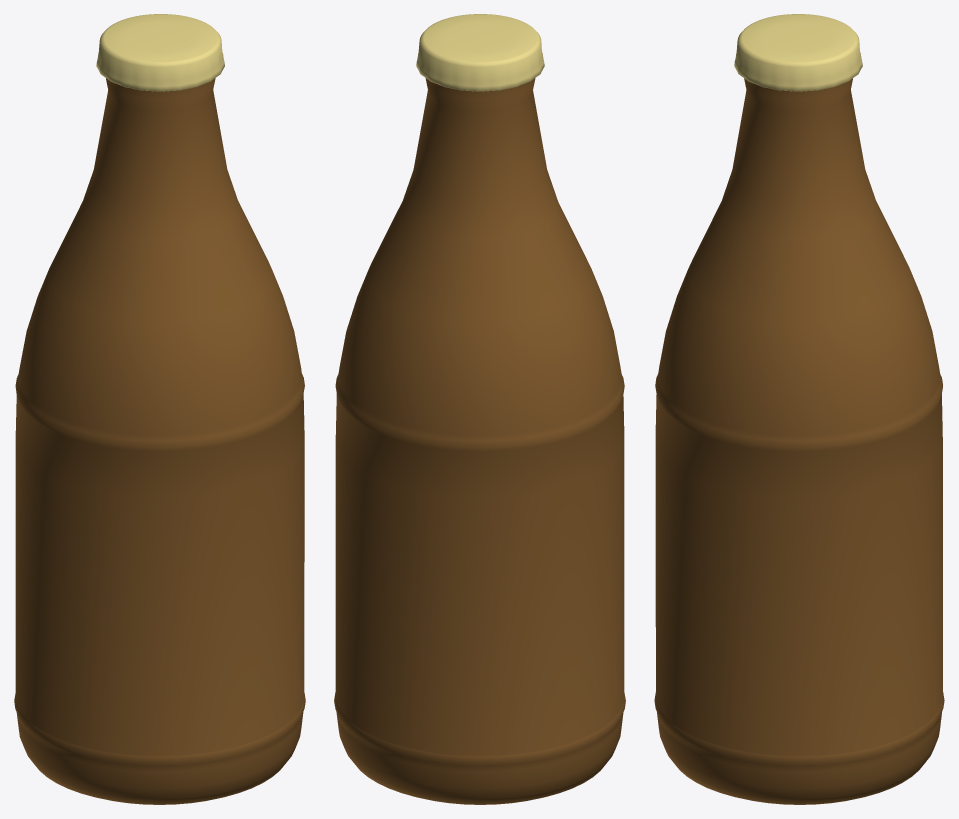
Rendered from bottle_stubby.glb.
3 views of the same model, side by side, from view 1: azimuth 30°, elevation 25°; view 2: azimuth 150°, elevation 25°; view 3: azimuth 270°, elevation 25° (orthographic).
Visible parts, largest first — view 1: Glass, Cap; view 2: Glass, Cap; view 3: Glass, Cap.
Boxes of the visible parts, <box> form: Glass: <box>14,78,305,804</box>; Cap: <box>96,14,224,91</box>; Glass: <box>334,78,625,804</box>; Cap: <box>416,14,544,91</box>; Glass: <box>654,78,944,804</box>; Cap: <box>734,14,862,91</box>.
Size of the model in its own units: 0.0682 by 0.1848 by 0.0678.
